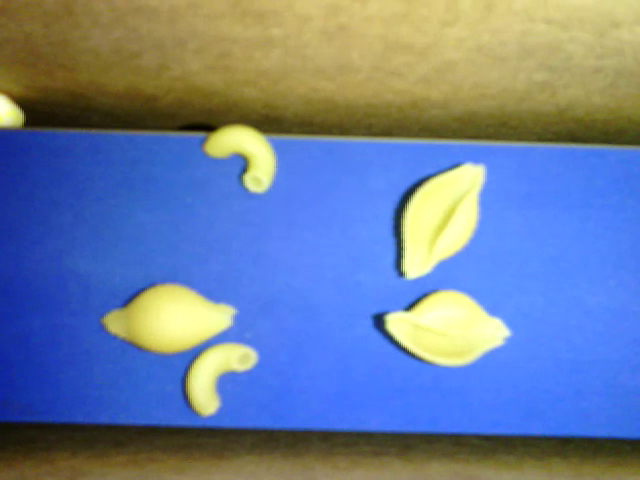elbow: (183, 342, 260, 418), (203, 123, 277, 192)
shell: (399, 161, 486, 279), (383, 289, 509, 369), (100, 282, 237, 354)
